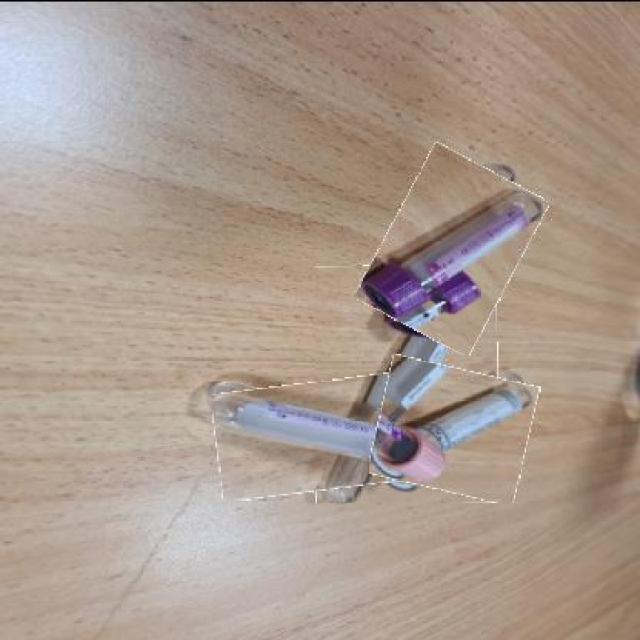Experimental-tube: (315, 262, 499, 502), (370, 150, 533, 345), (213, 372, 458, 494), (372, 361, 534, 496)
